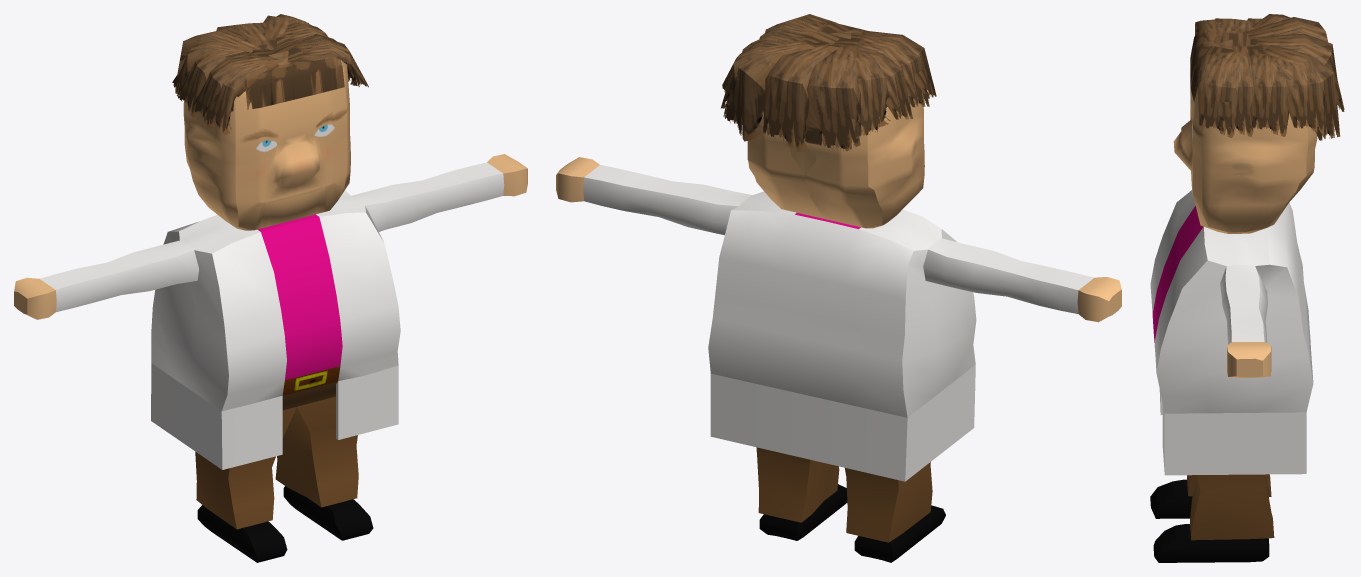
Rendered from randSci2.fbx.
The picture shows the model from 3 angles, left to right: view 1: azimuth 30°, elevation 25°; view 2: azimuth 150°, elevation 25°; view 3: azimuth 270°, elevation 25°; orthographic projection. The views are drawn at different scales.
Parts seen in each view (by area): view 1: RandSci1; view 2: RandSci1; view 3: RandSci1.
Part boxes in pixels (left/top/right/bottom): RandSci1: left=14, top=14, right=527, bottom=562; RandSci1: left=556, top=14, right=1121, bottom=562; RandSci1: left=1150, top=14, right=1344, bottom=562.
Bounding box in the file's own units: 19.2 × 17.06 × 6.13.
